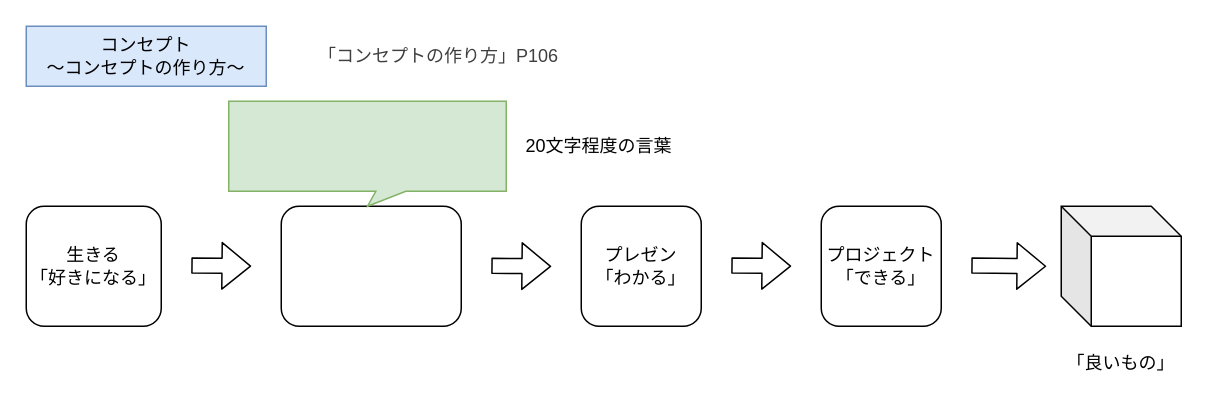
Some shapes in this 1208 by 413 pixel diagram are drawn without their labels. The shapes that lost their labels are listed below. From the top down, each one's centre as x and y in pixels, then its label:
At (366,153): "”〇〇を用いて、〇〇をしたい” ビジョン ＋ アイテム".
At (370,265): "コンセプト 「かわる」".
